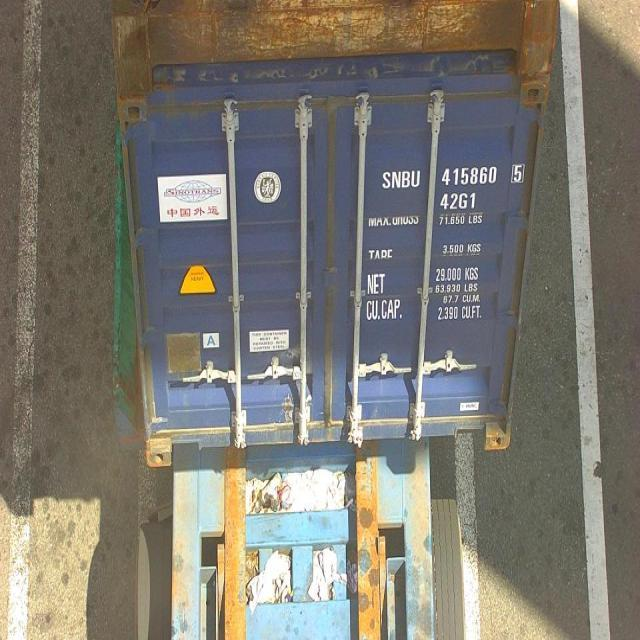ISO: (442, 192, 478, 210)
container_number: (386, 166, 524, 188)
